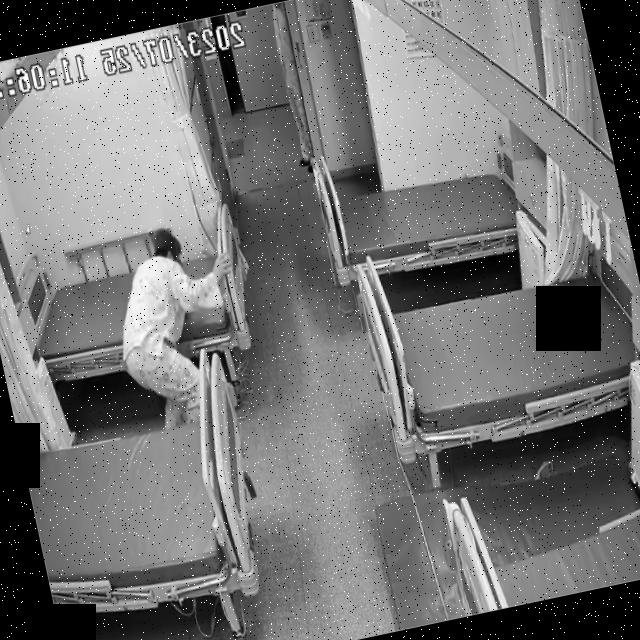bed: (8, 345, 274, 630), (361, 254, 640, 458), (8, 228, 262, 394), (319, 150, 524, 286)
danger: (99, 204, 262, 444)
patient: (97, 202, 265, 446)
